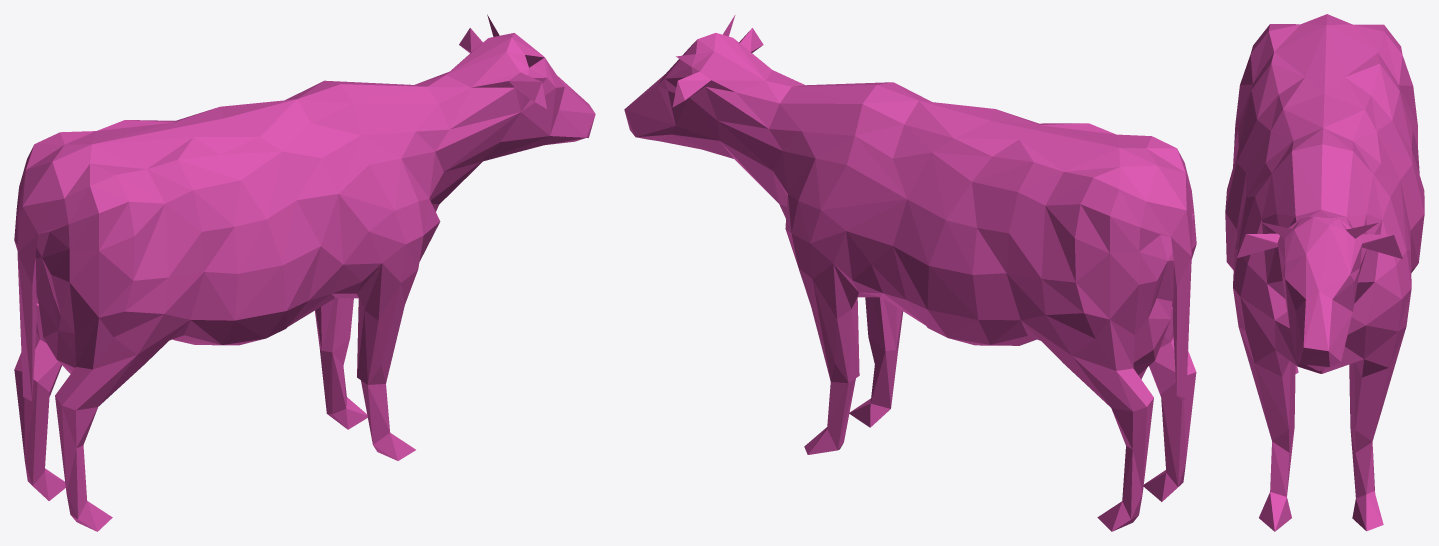
The model's file is animal02.FBX.
3 views of the same model, side by side, from view 1: azimuth 30°, elevation 25°; view 2: azimuth 150°, elevation 25°; view 3: azimuth 270°, elevation 25° (orthographic).
Parts seen in each view (by area): view 1: Cow; view 2: Cow; view 3: Cow.
Boxes of the visible parts, x1,y1,x2,y2 form: Cow: (14,14,595,531); Cow: (624,15,1196,531); Cow: (1225,14,1424,531).
Bounding box in the file's own units: 85.64 × 53.1 × 25.78.
